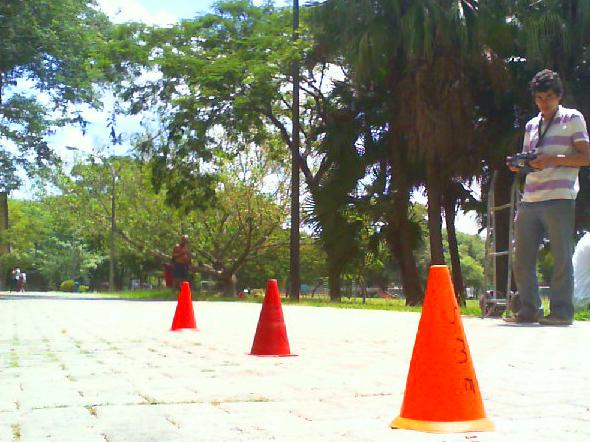0 cone: (391, 265, 496, 433), (247, 278, 298, 357), (168, 282, 198, 332)
